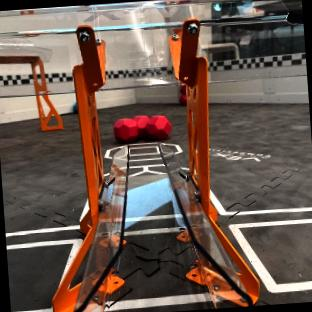V5_RED: (112, 114, 169, 142)
